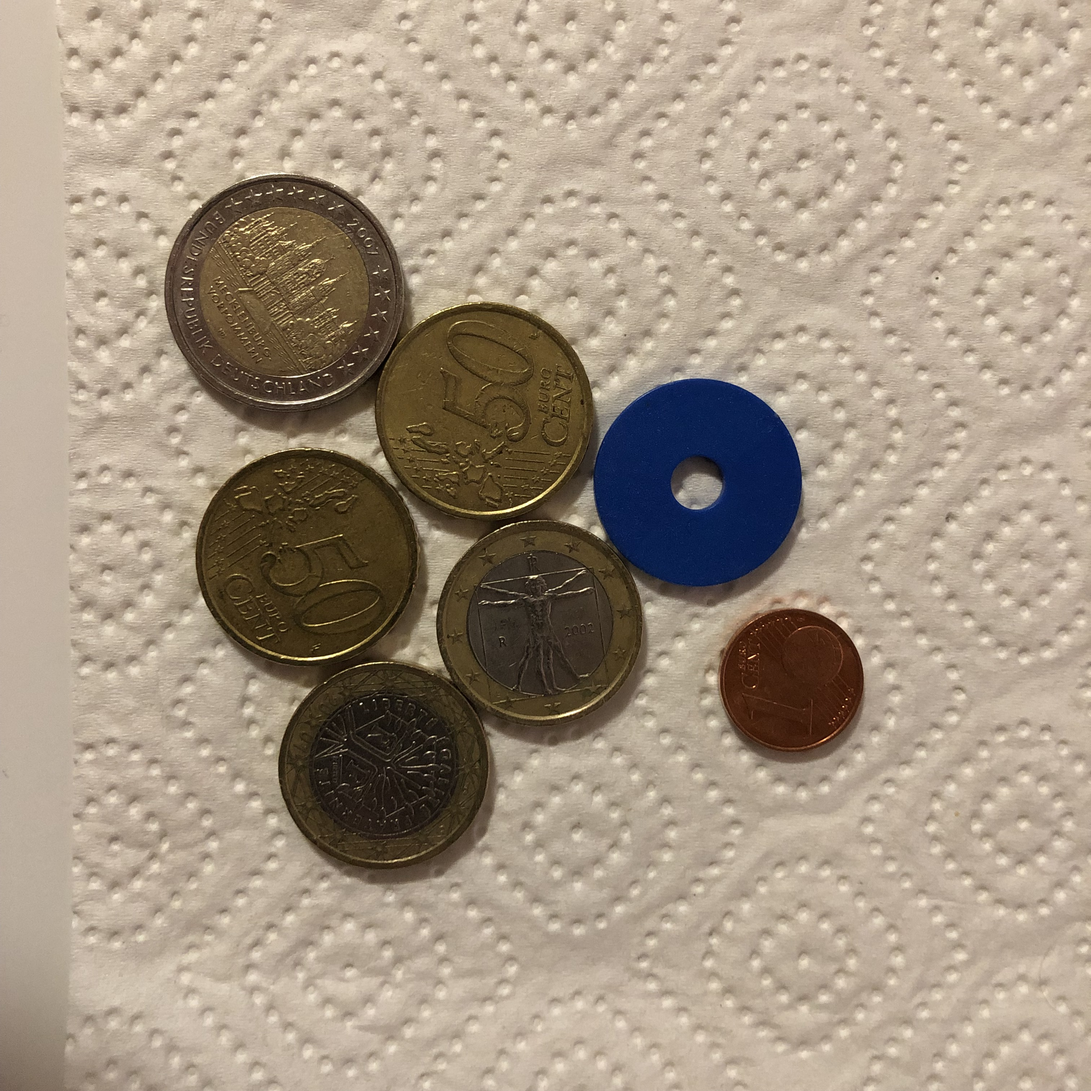1 cent: (716, 608, 866, 754)
1 euro: (433, 518, 648, 732), (278, 658, 493, 871)
2 euro: (159, 171, 411, 414)
50 cent: (194, 447, 422, 670), (371, 296, 599, 518)
